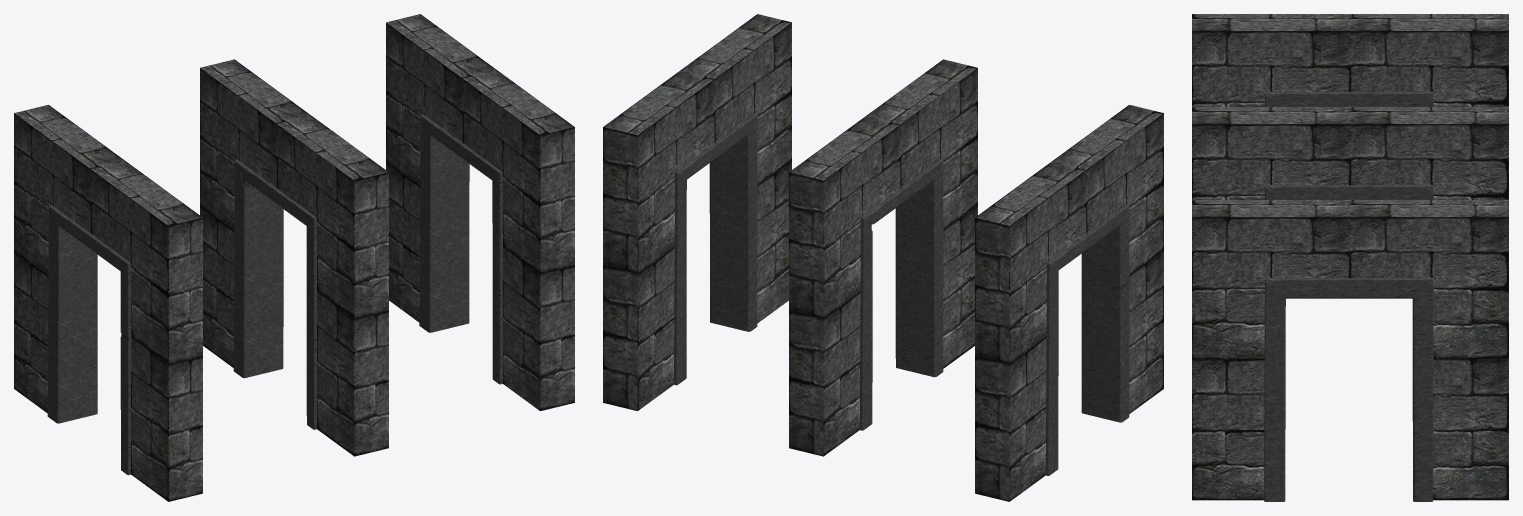
File: Doorways.fbx
3 views of the same model, side by side, from view 1: azimuth 30°, elevation 25°; view 2: azimuth 150°, elevation 25°; view 3: azimuth 270°, elevation 25° (orthographic). The views are drawn at different scales.
Visible parts, largest first — view 1: Doorway_C, Doorway_B, Doorway_A; view 2: Doorway_C, Doorway_B, Doorway_A; view 3: Doorway_A, Doorway_C, Doorway_B.
Part boxes in pixels (x1,y1,x2,y2): Doorway_C: (14,105,202,501); Doorway_B: (200,59,388,456); Doorway_A: (386,14,574,410); Doorway_C: (975,105,1163,501); Doorway_B: (789,59,977,456); Doorway_A: (603,14,791,410); Doorway_A: (1192,200,1508,501); Doorway_C: (1192,14,1508,106); Doorway_B: (1192,107,1508,199).
Bounding box in the file's own units: 9.08 × 5.8 × 5.89.
